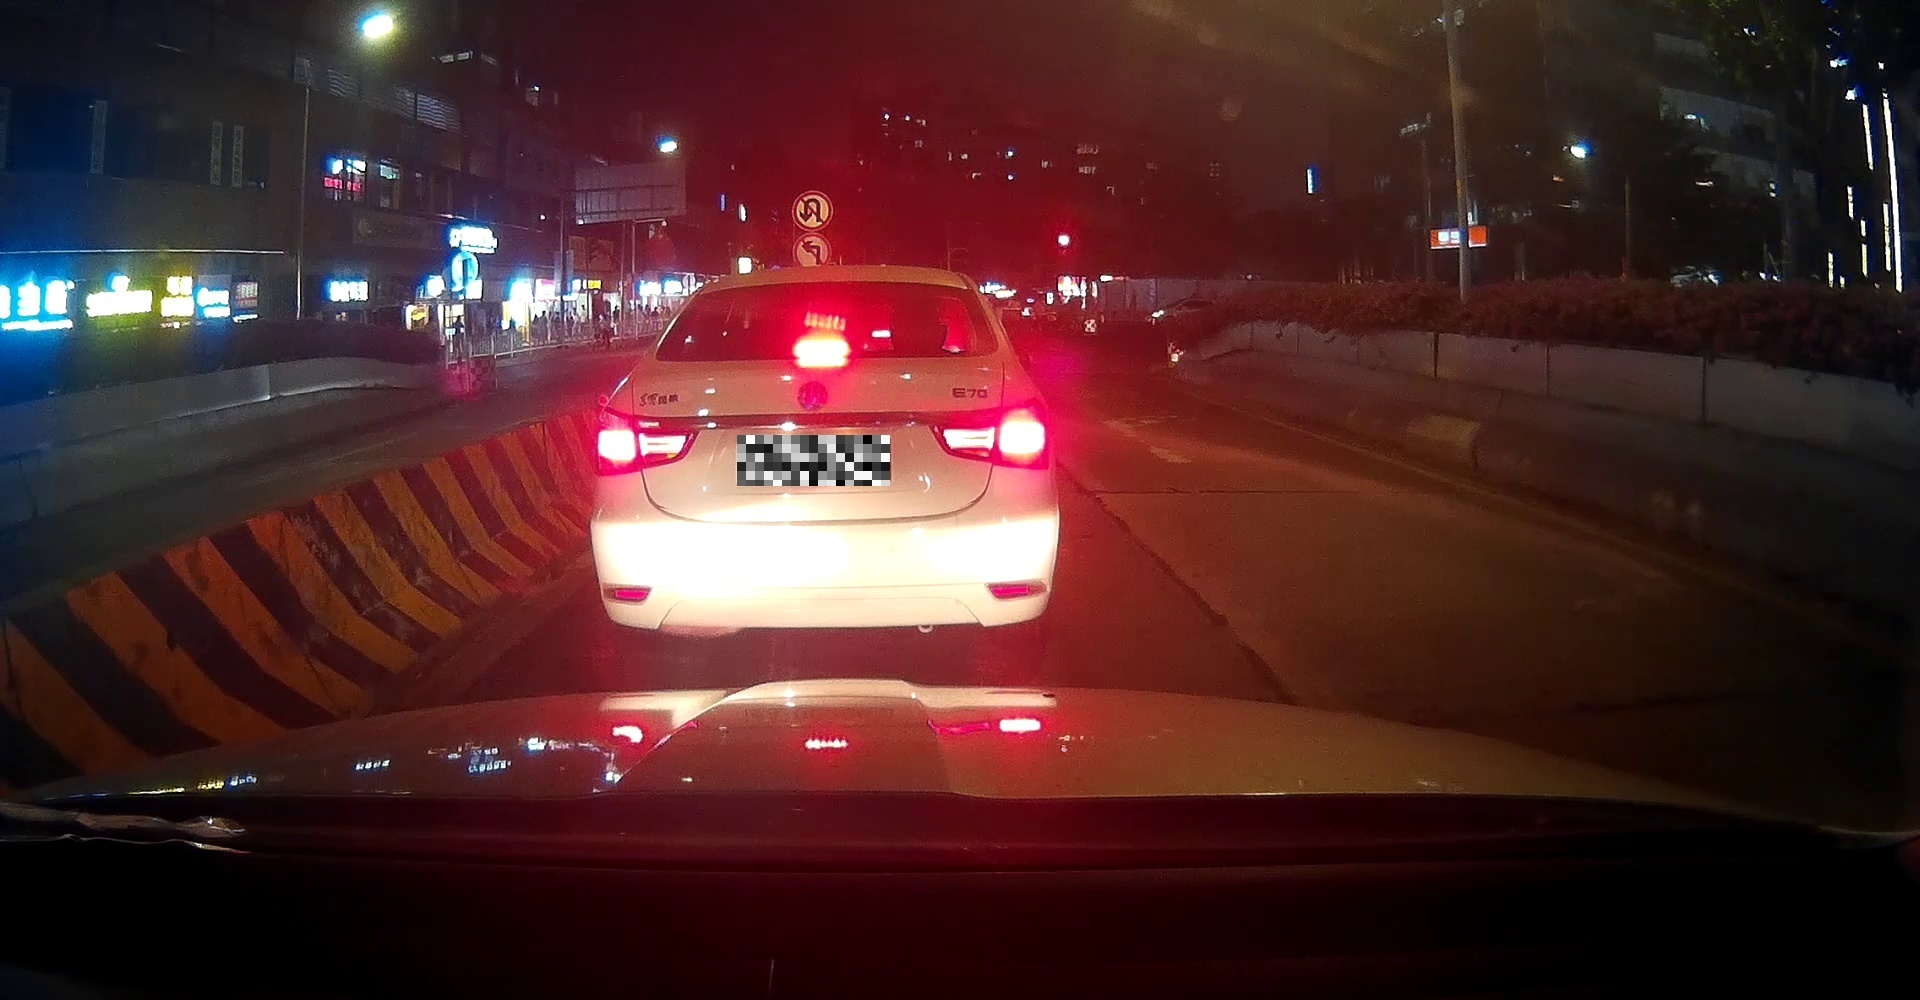L_light: (594, 406, 701, 473)
R_light: (931, 401, 1051, 473)
T_light: (794, 336, 852, 357)
night-brake: (589, 263, 1059, 670)
plate_1: (737, 435, 890, 486)
